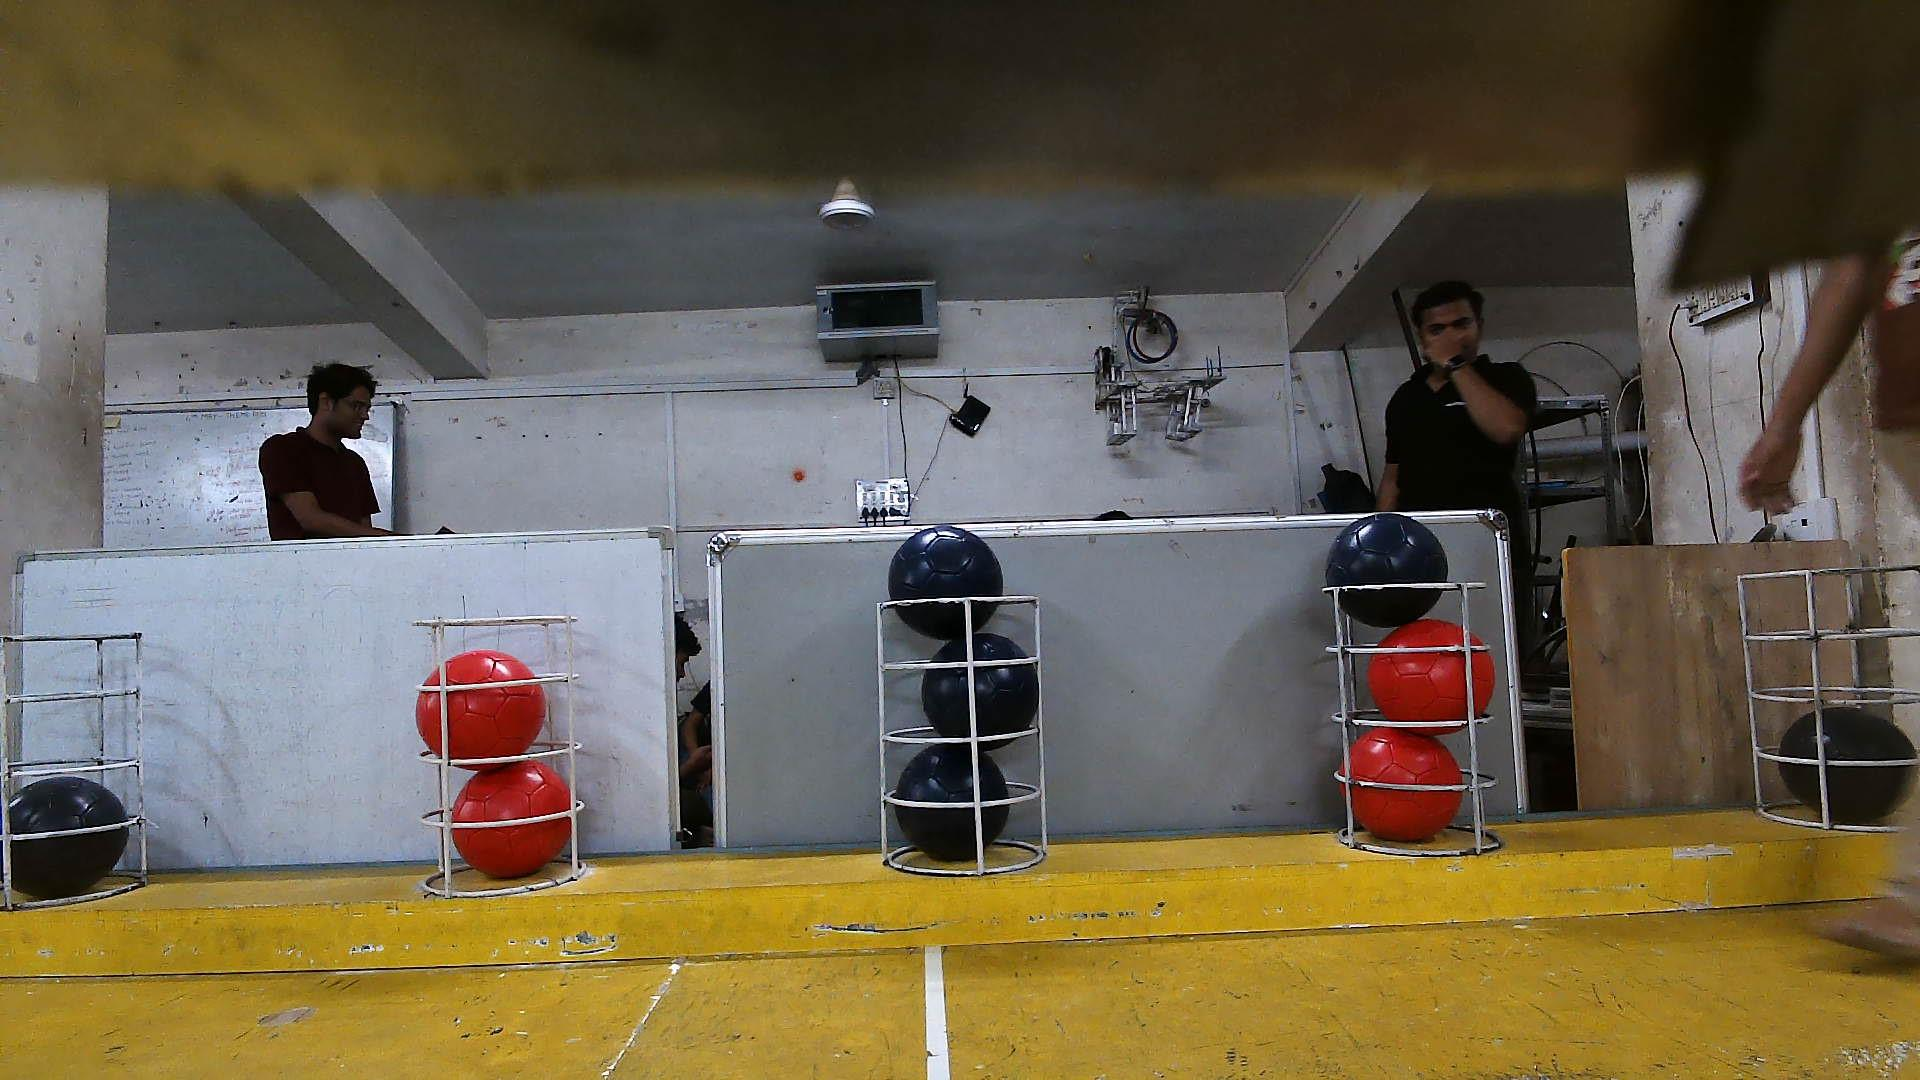dhoka: (1782, 705, 1919, 815), (8, 778, 128, 899), (1325, 514, 1447, 628), (923, 630, 1040, 746), (889, 525, 1004, 641), (895, 744, 1010, 858)
laale: (417, 650, 546, 758), (451, 764, 572, 878), (1346, 729, 1461, 844), (1371, 621, 1494, 727)
